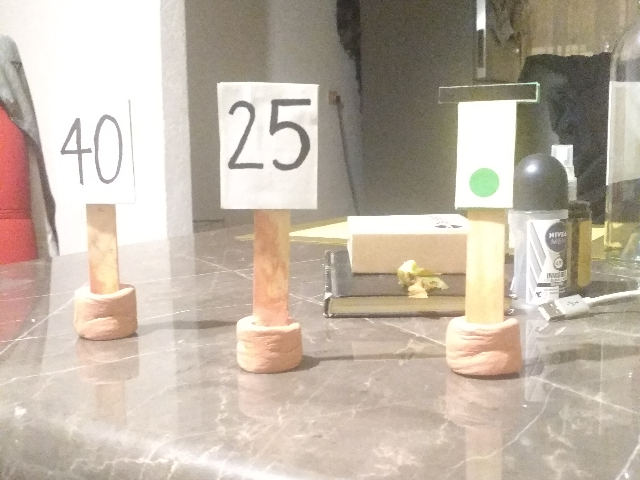Green Traffic Light: (439, 80, 540, 210)
Speed Limit 25: (216, 79, 321, 210)
Spped Limit 40: (48, 100, 136, 205)
